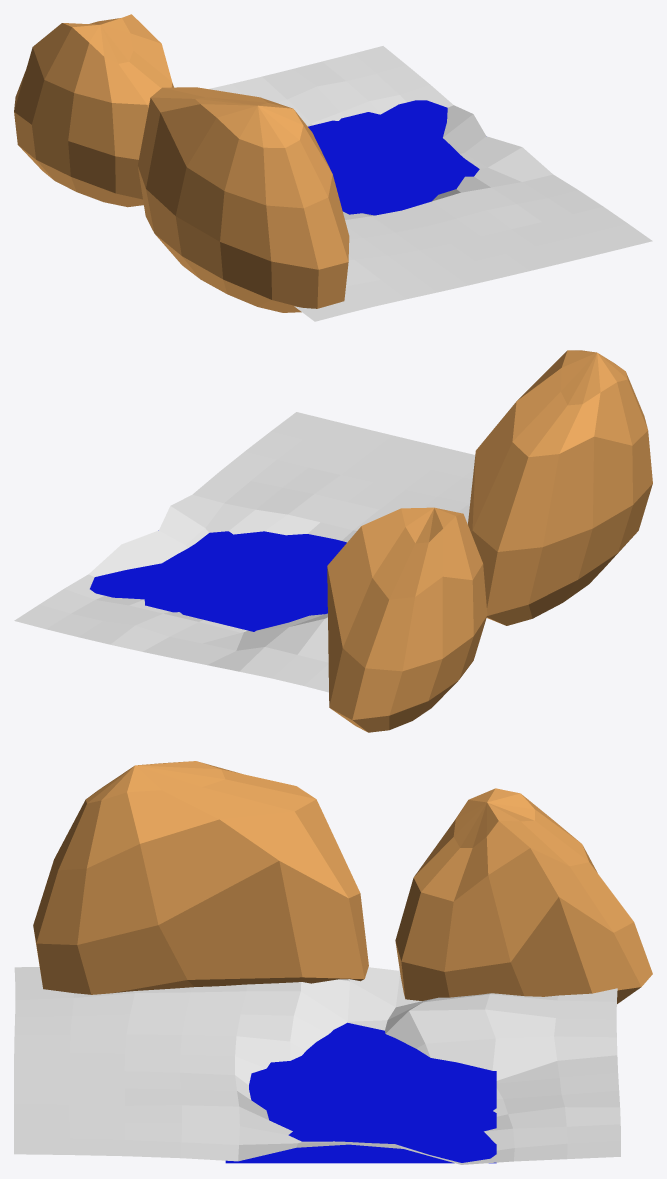
File: Riverbed._Experiment1.glb
3 renders of one model, top to bottom at view 1: azimuth 30°, elevation 25°; view 2: azimuth 150°, elevation 25°; view 3: azimuth 270°, elevation 25°, orthographic. The views are drawn at different scales.
Parts seen in each view (by area): view 1: Hills - col, Riverbed - col, Water - col; view 2: Hills - col, Riverbed - col, Water - col; view 3: Hills - col, Riverbed - col, Water - col.
Boxes of the visible parts, left/top/right/bottom form: Hills - col: left=14, top=14, right=349, bottom=312; Riverbed - col: left=208, top=46, right=652, bottom=321; Water - col: left=308, top=100, right=479, bottom=215; Hills - col: left=327, top=350, right=652, bottom=732; Riverbed - col: left=14, top=412, right=475, bottom=692; Water - col: left=90, top=530, right=346, bottom=631; Hills - col: left=33, top=761, right=652, bottom=1003; Riverbed - col: left=14, top=967, right=620, bottom=1164; Water - col: left=225, top=1022, right=496, bottom=1163.
Bounding box in the file's own units: 57.6 × 31.35 × 70.93.
